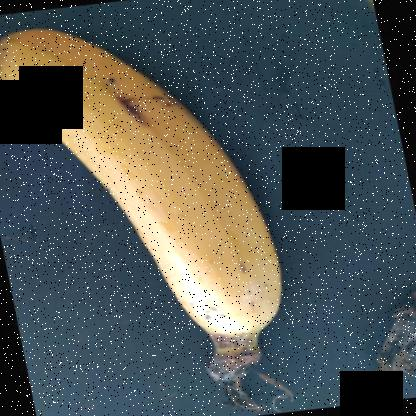freshripe: (0, 1, 286, 342)
